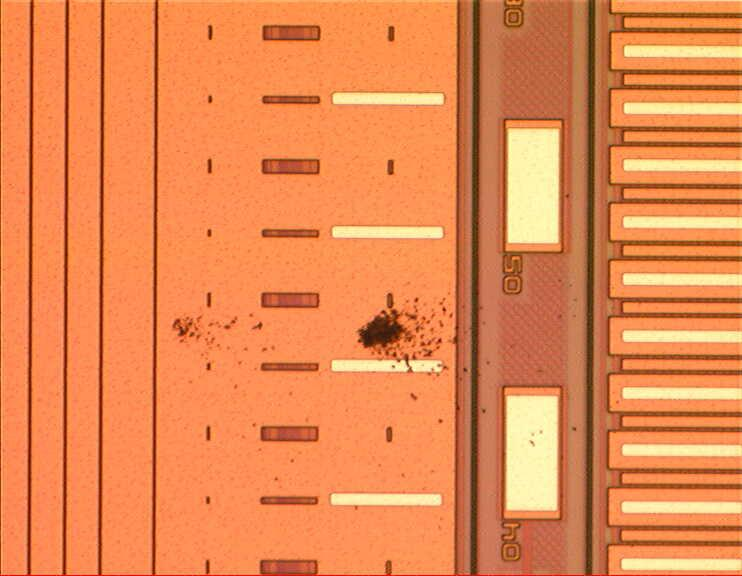PO CONTAMINATION: (315, 290, 494, 383), (168, 307, 280, 367)
